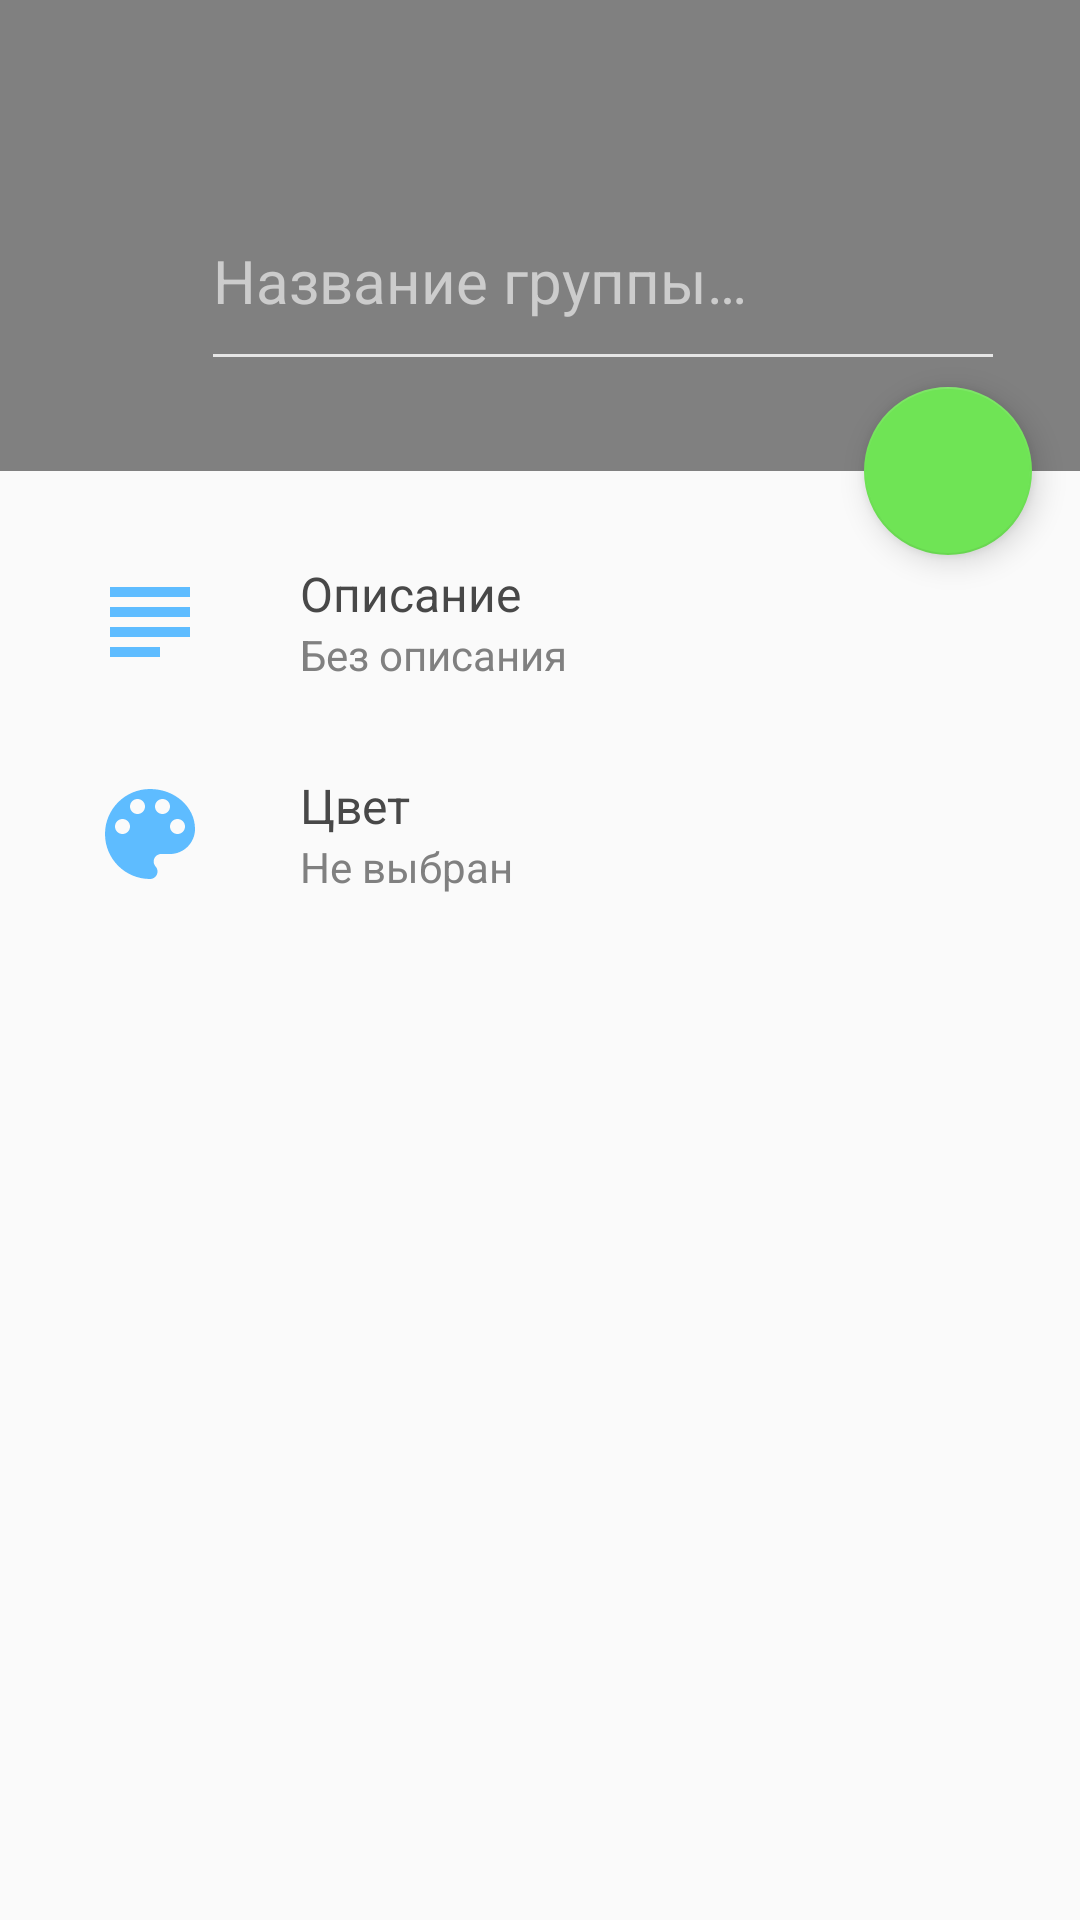

Locate icon controls on the screen. Image size 1080x1920, boxes as region(x1, y1, x2, y2).
palette: region(105, 789, 195, 879)
subject: region(110, 587, 190, 657)
